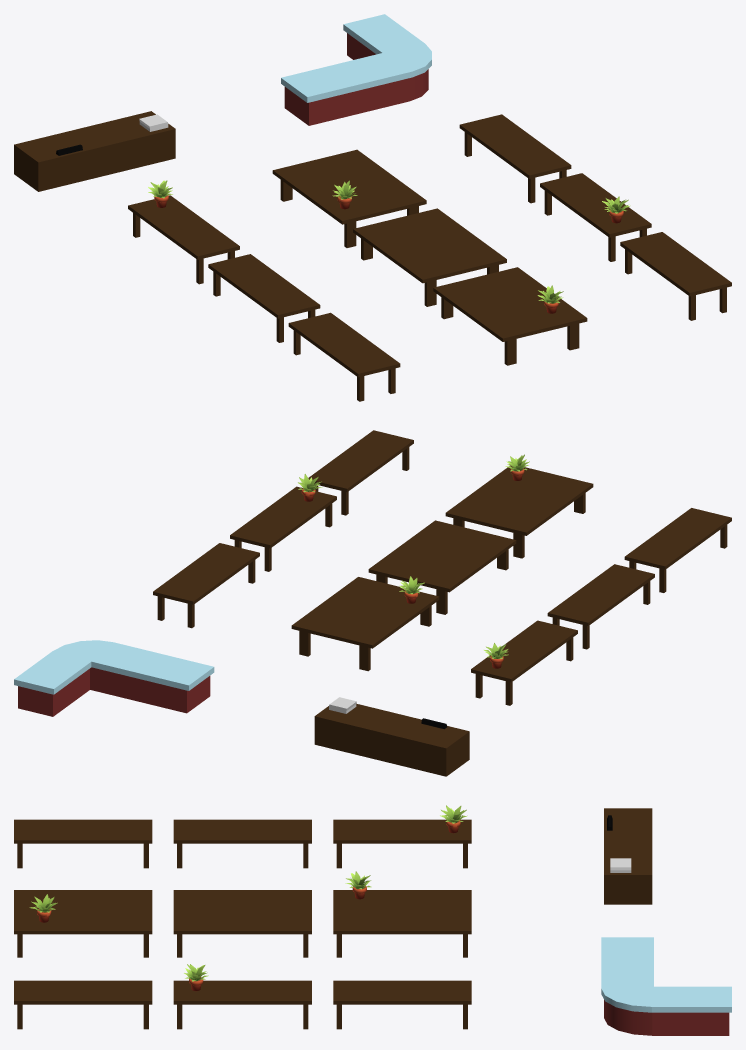
File: tablesandplants.glb
3 views of the same model, one above another, from view 1: azimuth 30°, elevation 25°; view 2: azimuth 150°, elevation 25°; view 3: azimuth 270°, elevation 25° (orthographic). The views are drawn at different scales.
Visible parts, largest first — view 1: table.020, table.019, table.017, table.016, table.018, table.010, table.015, table.011, table.013, table.012, table.014; view 2: table.020, table.019, table.018, table.017, table.016, table.013, table.011, table.010, table.015, table.012, table.014; view 3: table.020, table.017, table.018, table.016, table.019, table.010, table.015, table.011, table.013, table.014, table.012.
Boxes of the visible parts, box(x1,y1,x2,y2) form: table.020: box(281, 14, 431, 125); table.019: box(14, 111, 175, 191); table.017: box(353, 208, 506, 306); table.016: box(433, 267, 587, 365); table.018: box(272, 149, 426, 247); table.010: box(288, 312, 400, 401); table.015: box(620, 232, 731, 320); table.011: box(208, 254, 320, 342); table.013: box(459, 114, 571, 203); table.012: box(128, 195, 239, 284); table.014: box(540, 173, 651, 261); table.020: box(14, 640, 214, 716); table.019: box(314, 703, 469, 776); table.018: box(291, 577, 439, 671); table.017: box(368, 520, 516, 614); table.016: box(445, 465, 593, 558); table.013: box(153, 543, 259, 628); table.011: box(547, 564, 654, 649); table.010: box(624, 508, 731, 592); table.015: box(308, 430, 413, 515); table.012: box(471, 620, 577, 705); table.014: box(230, 486, 336, 571); table.020: box(601, 937, 731, 1035); table.017: box(173, 890, 311, 957); table.018: box(333, 890, 471, 957); table.016: box(14, 890, 152, 957); table.019: box(604, 808, 652, 904); table.010: box(14, 819, 152, 868); table.015: box(14, 980, 152, 1029); table.011: box(173, 819, 311, 868); table.013: box(333, 980, 471, 1029); table.014: box(173, 980, 311, 1029); table.012: box(333, 819, 471, 868).
Size of the model in its own units: 11.82 by 1.47 by 17.99.
27 materials, 23 textured.
